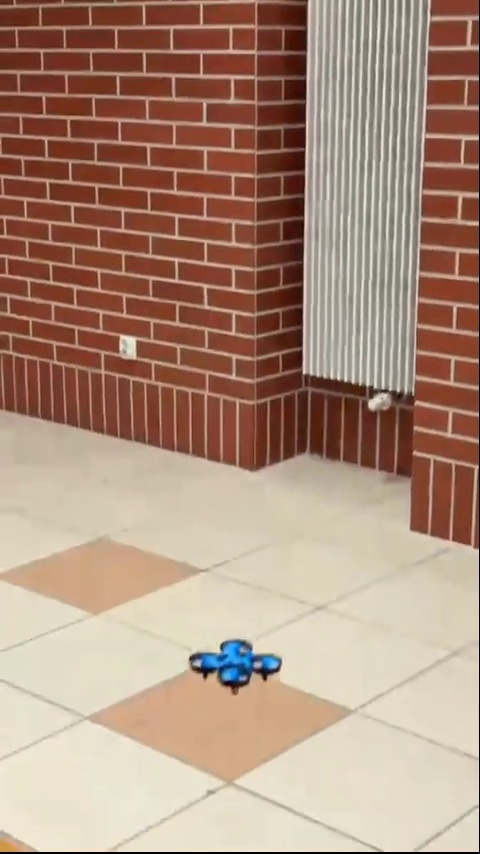drone: (184, 636, 286, 695)
